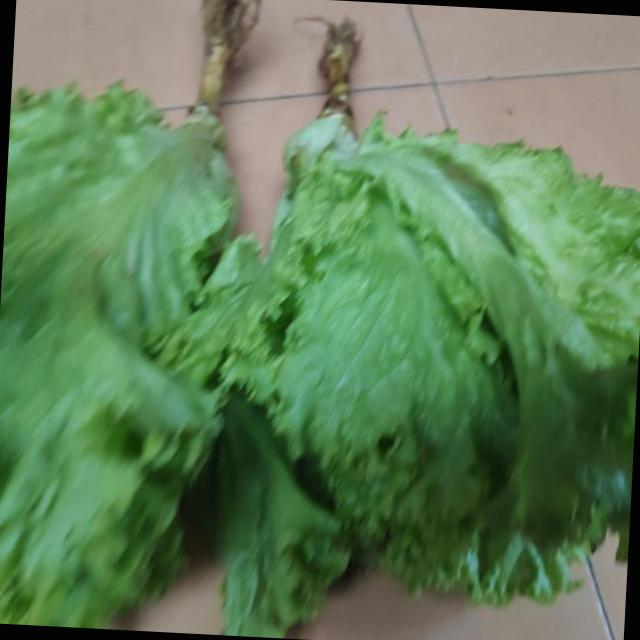Lettuce-Ready-to-Harvest: (179, 115, 640, 638), (0, 86, 236, 628)
